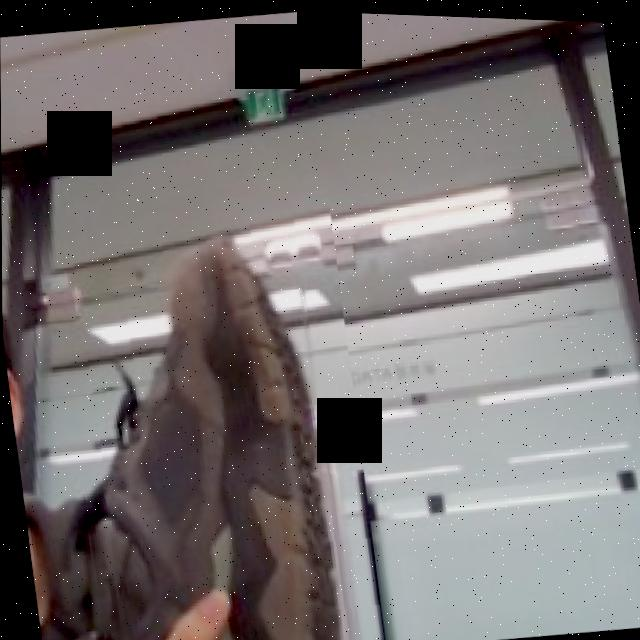shoe: (41, 161, 386, 640)
